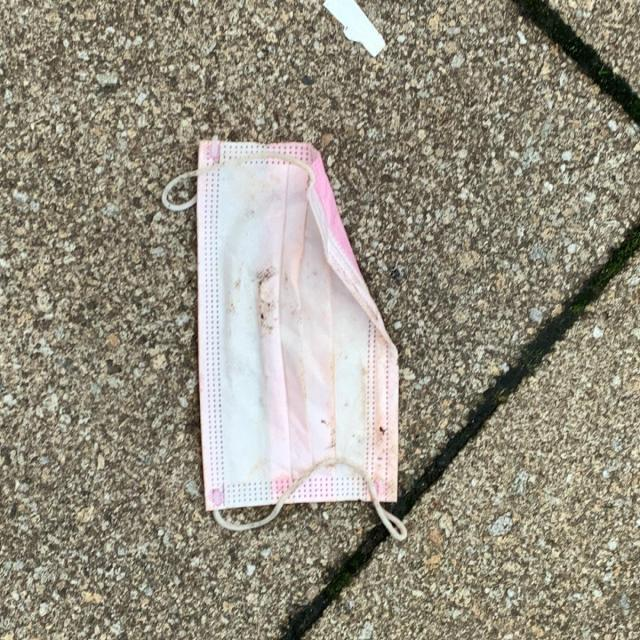Mask: (156, 138, 408, 544)
